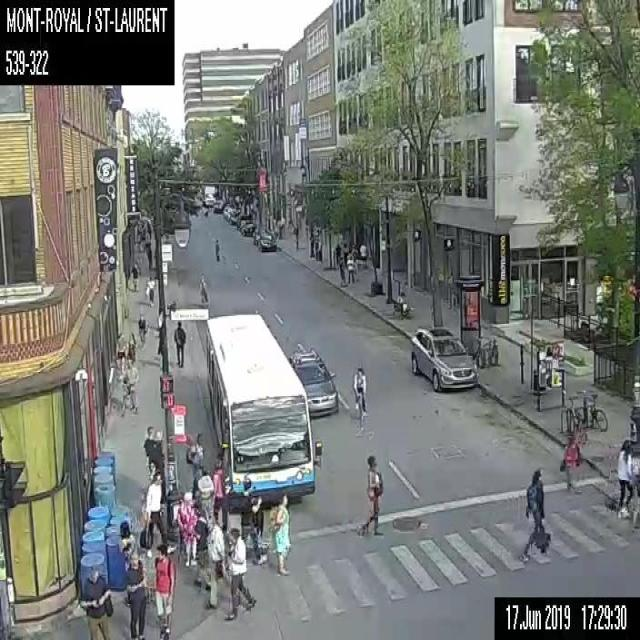bus: (202, 311, 320, 513)
cyclist: (120, 359, 138, 415), (352, 364, 366, 427)
pedestrian: (224, 526, 256, 618), (78, 565, 114, 639), (144, 469, 175, 554), (521, 465, 549, 559), (240, 477, 268, 565), (205, 514, 231, 608), (152, 541, 175, 639), (358, 453, 383, 536), (125, 550, 148, 638), (616, 436, 639, 521), (267, 493, 290, 576), (176, 490, 197, 565), (193, 506, 211, 591), (558, 432, 581, 495), (120, 520, 136, 605), (212, 457, 228, 526), (186, 433, 202, 499), (152, 430, 166, 501), (144, 425, 158, 480), (173, 323, 185, 369), (116, 331, 128, 372), (396, 291, 413, 317), (197, 275, 208, 308), (126, 331, 136, 365), (144, 274, 154, 306), (338, 254, 347, 286), (138, 312, 146, 346), (144, 238, 152, 268), (130, 260, 138, 289), (346, 255, 354, 283), (359, 240, 367, 268), (334, 242, 341, 266), (342, 242, 349, 266), (351, 243, 357, 266), (214, 238, 220, 260), (314, 228, 319, 246)
vehicle: (411, 325, 478, 392), (289, 346, 339, 418), (258, 232, 276, 251), (236, 212, 253, 228), (252, 228, 268, 244), (202, 184, 214, 205), (241, 219, 254, 235), (228, 208, 240, 223), (222, 206, 235, 218), (212, 201, 222, 211)
